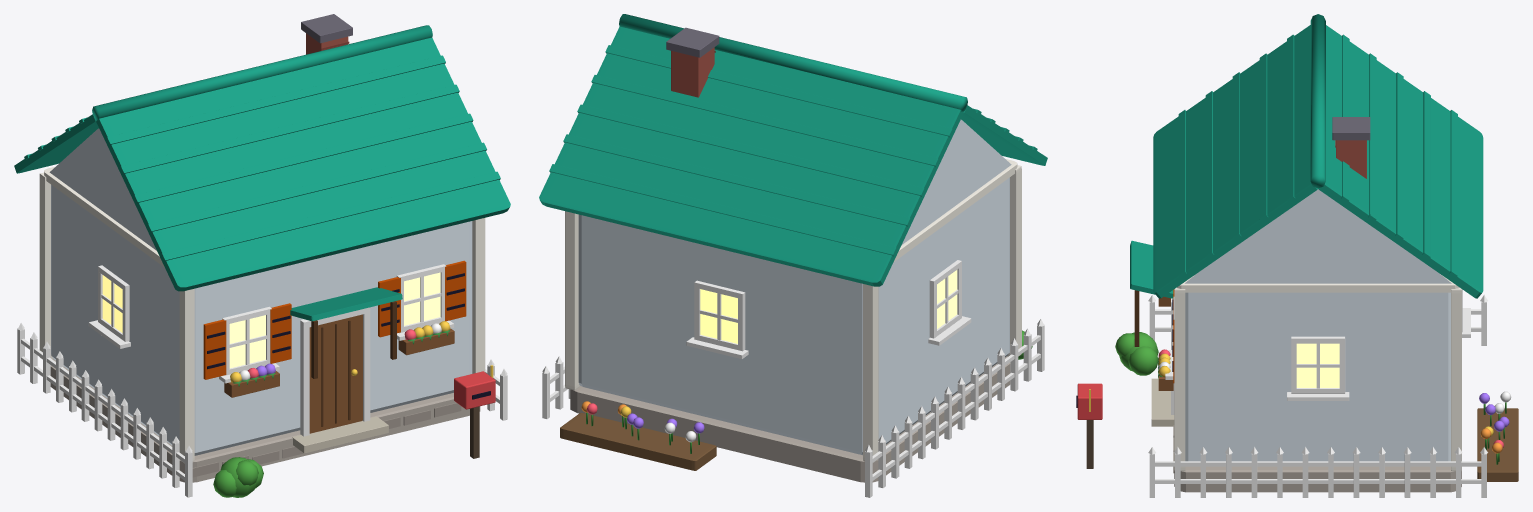
File: domek4.glb
3 renders of one model, left to right at view 1: azimuth 30°, elevation 25°; view 2: azimuth 150°, elevation 25°; view 3: azimuth 270°, elevation 25°, orthographic. The views are drawn at different scales.
Visible parts, largest first — view 1: domek4; view 2: domek4; view 3: domek4.
Part boxes in pixels (x1=…): domek4: x1=14, y1=14, x2=510, y2=497; domek4: x1=539, y1=14, x2=1047, y2=497; domek4: x1=1076, y1=14, x2=1518, y2=497.
Bounding box in the file's own units: 5.54 × 5.43 × 6.4.
2 materials, 2 textured.
